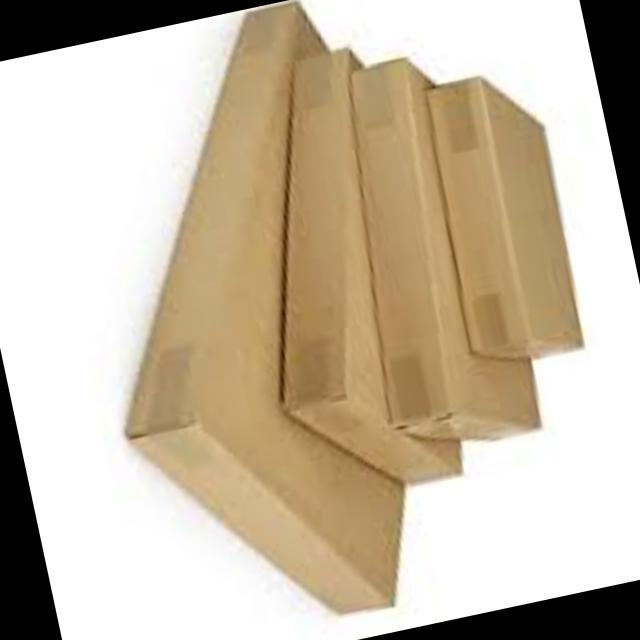cardboard paper: (133, 7, 586, 615), (132, 6, 408, 616), (288, 55, 465, 485), (356, 62, 544, 442), (433, 81, 587, 361)
